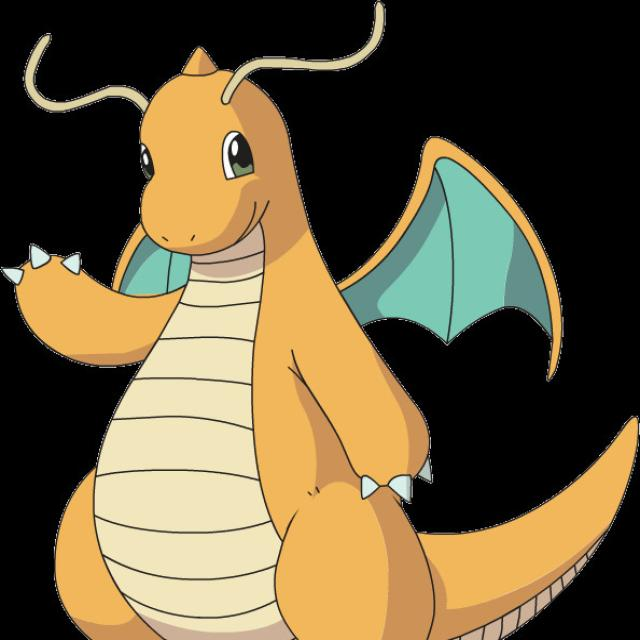Dragonite: (61, 37, 445, 640)
